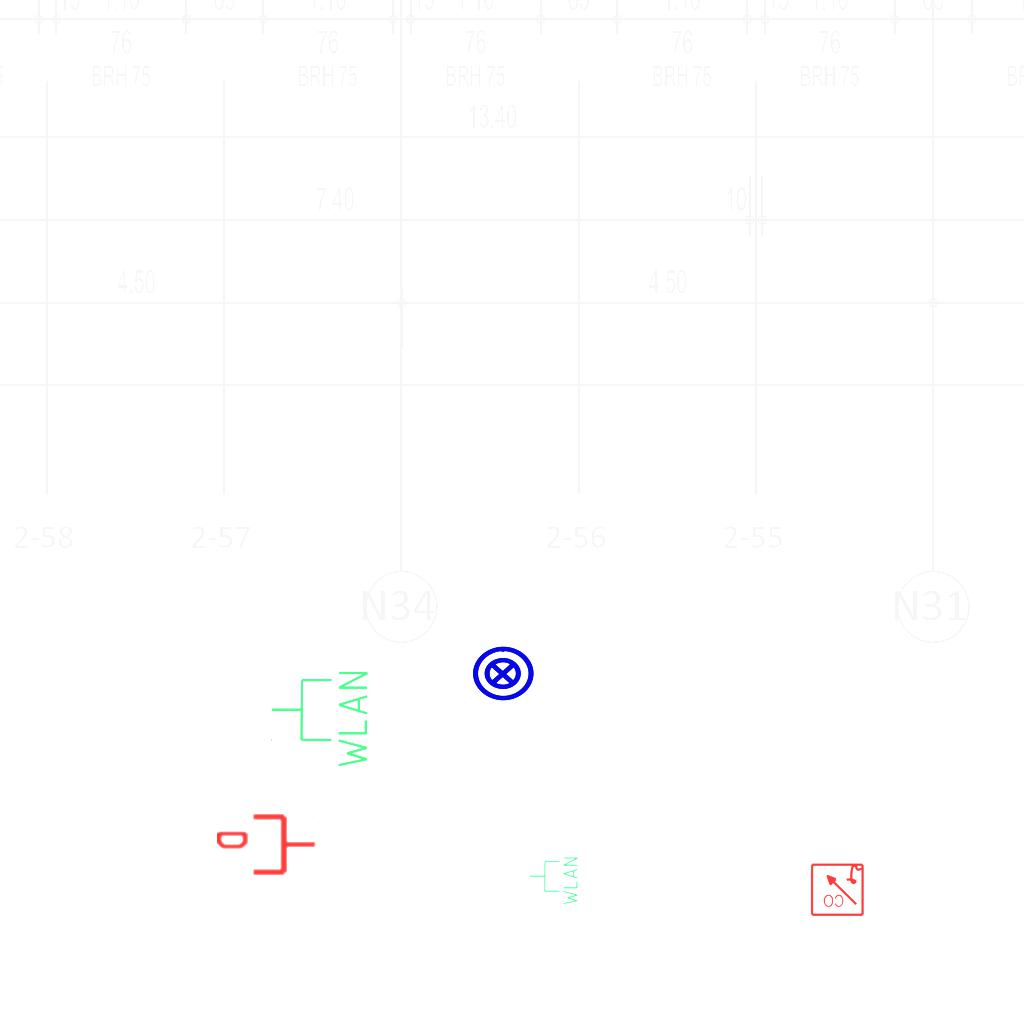Datenanschluss_einfach: (217, 810, 317, 879)
ROA_Rauchmelder_optisch_mit_Signalgeber_(Sockelsirene): (809, 861, 865, 917)
Taster_beleuchtet: (470, 641, 536, 707)
WLAN: (268, 667, 372, 772), (528, 855, 580, 907)
